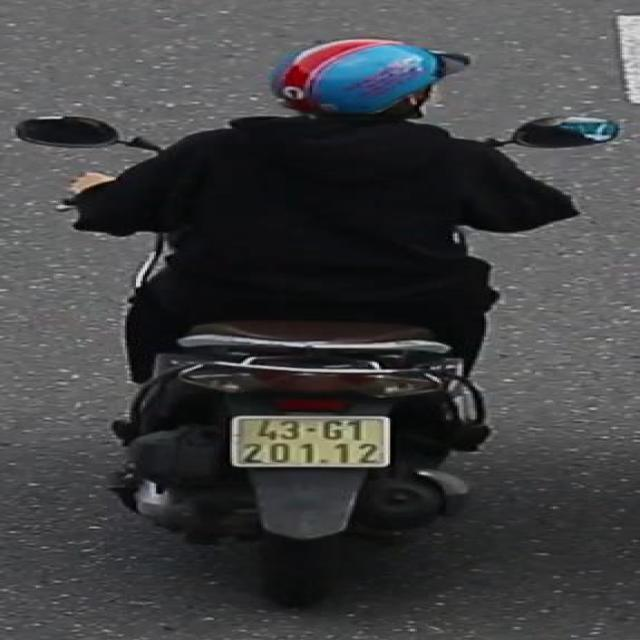LP: (227, 407, 400, 470)
helmet: (272, 34, 448, 132)
